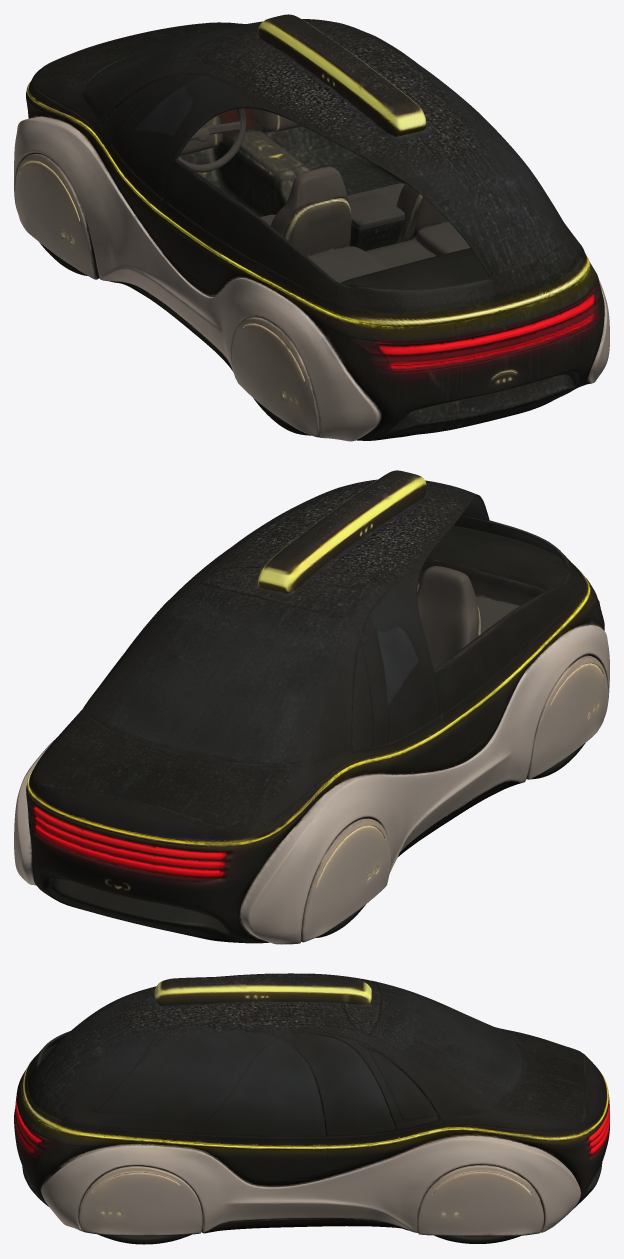
File: cab.glb
3 renders of one model, top to bottom at view 1: azimuth 30°, elevation 25°; view 2: azimuth 150°, elevation 25°; view 3: azimuth 270°, elevation 25°, orthographic. The views are drawn at different scales.
Parts seen in each view (by area): view 1: tripo_node_d21fb984-f1e0-4a69-b797-109d821140c8; view 2: tripo_node_d21fb984-f1e0-4a69-b797-109d821140c8; view 3: tripo_node_d21fb984-f1e0-4a69-b797-109d821140c8.
Part boxes in pixels (x1,y1,x2,y2): tripo_node_d21fb984-f1e0-4a69-b797-109d821140c8: (14,14,609,441); tripo_node_d21fb984-f1e0-4a69-b797-109d821140c8: (14,470,609,944); tripo_node_d21fb984-f1e0-4a69-b797-109d821140c8: (14,973,609,1244).
Bounding box in the file's own units: 0.4492 × 0.392 × 0.9802.
Materials: 1 (1 with a texture image).
